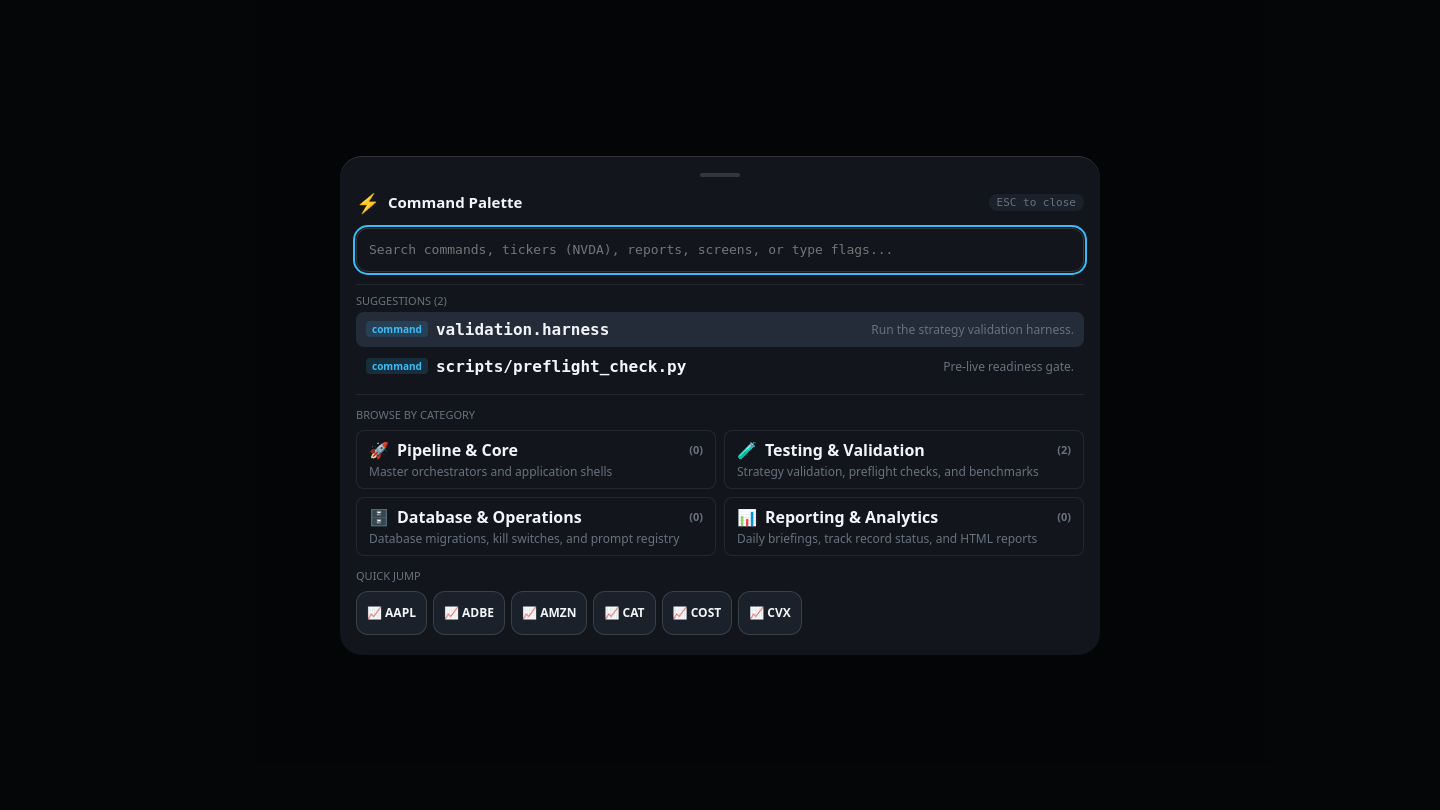
Test: CommandPaletteModal › resolving a command with a required option missing shows a validation hint and disables Run
In the field with test id "command-palette-input": (720, 250) [356,228,1084,272], type "validation.harness "
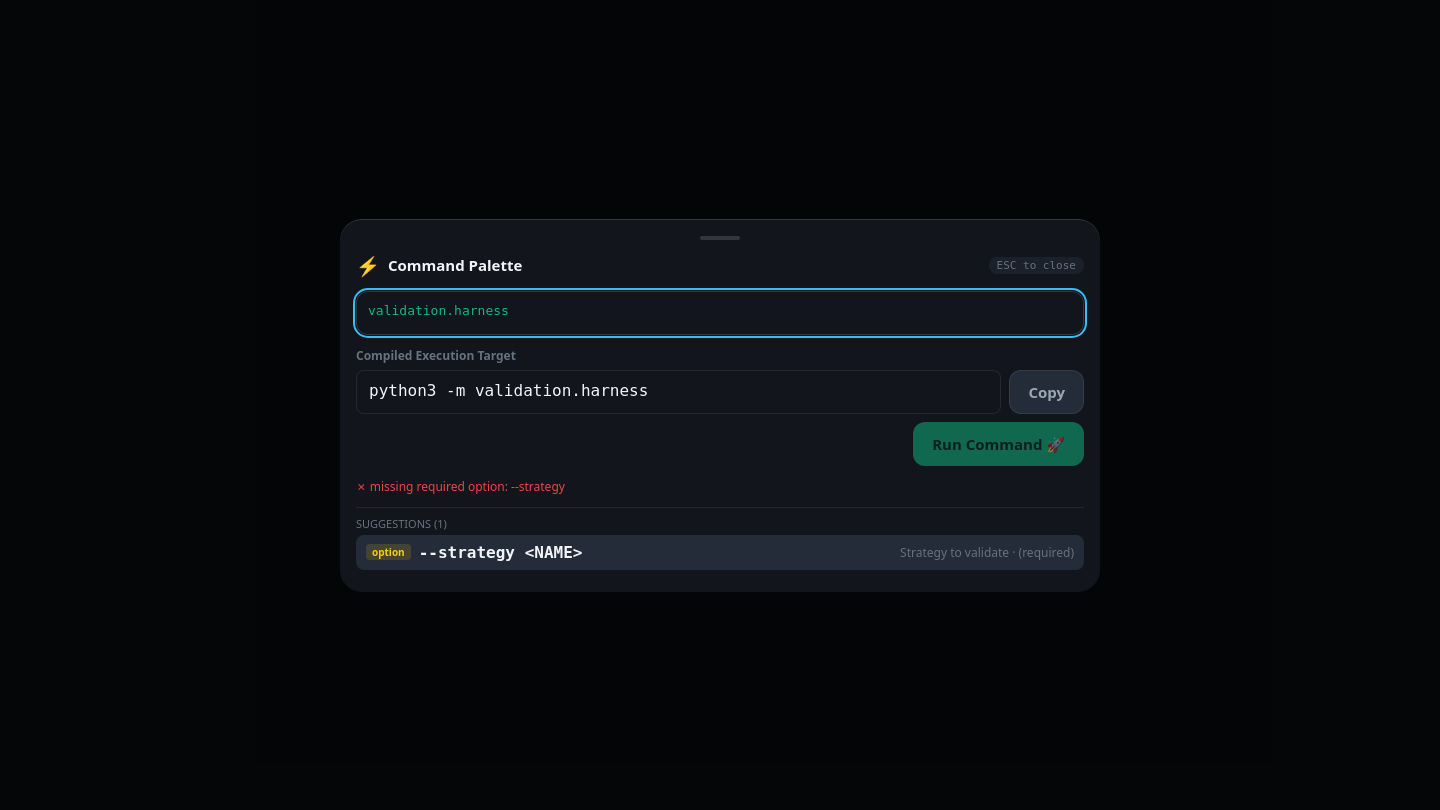
Check: the text "✗ missing required option: --strategy" is shown, box [356,478,565,494]
Check: the button "Run Command 🚀" is disabled, box [913,422,1084,466]
